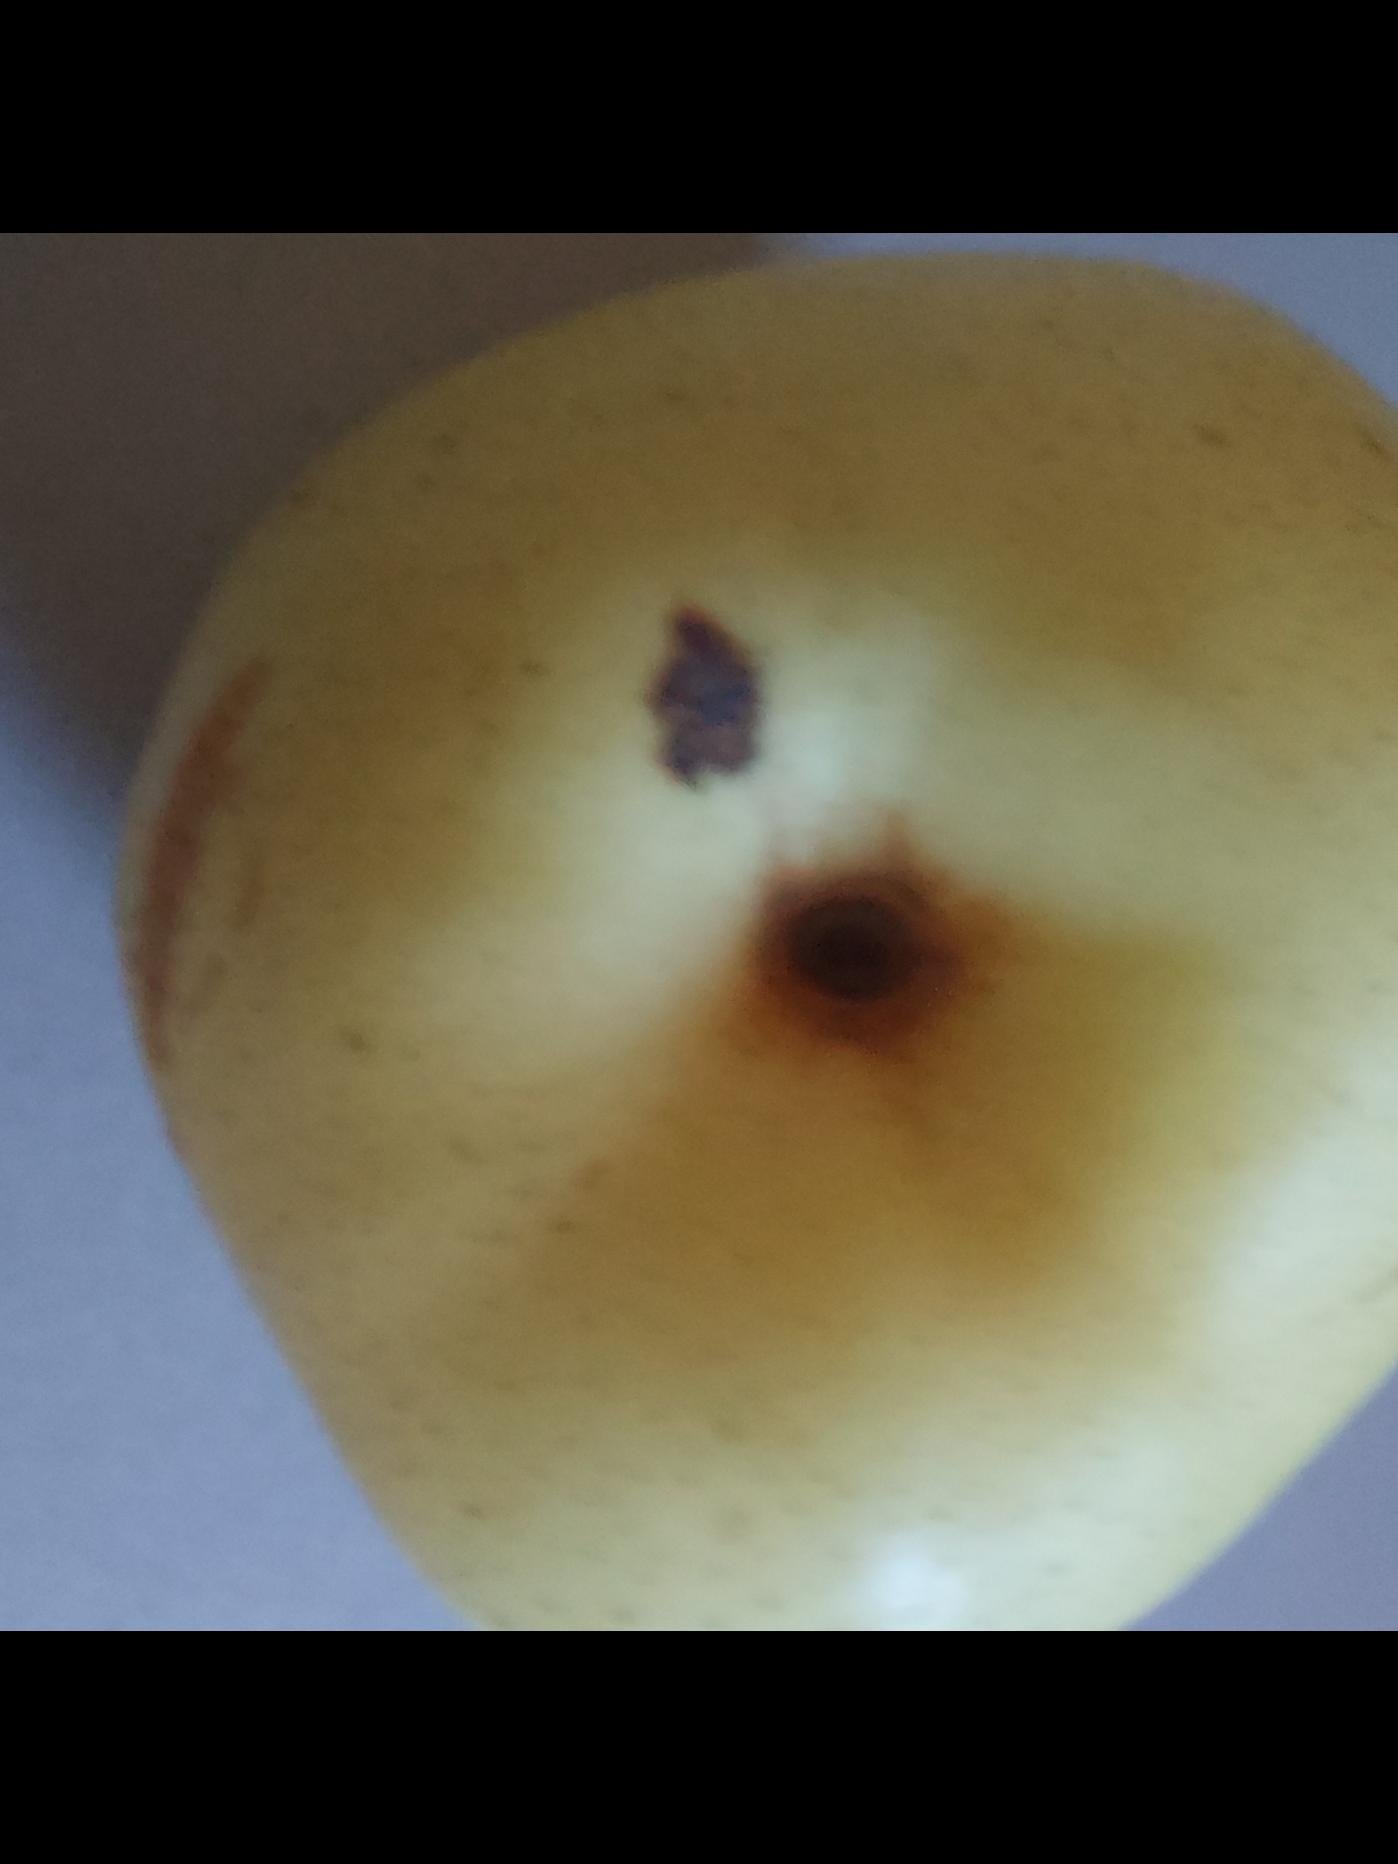Good Pear: (81, 252, 1398, 1631)
